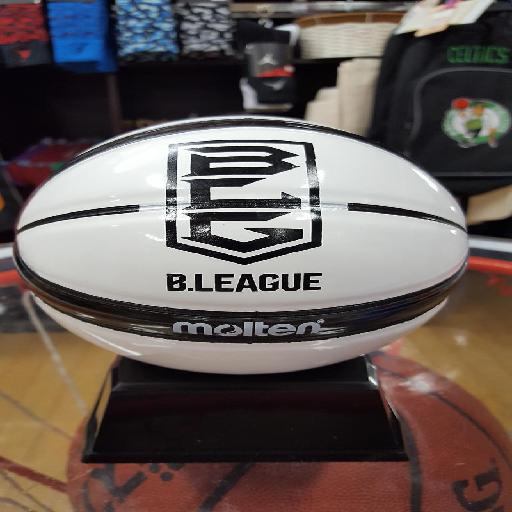ball: (13, 116, 469, 374)
